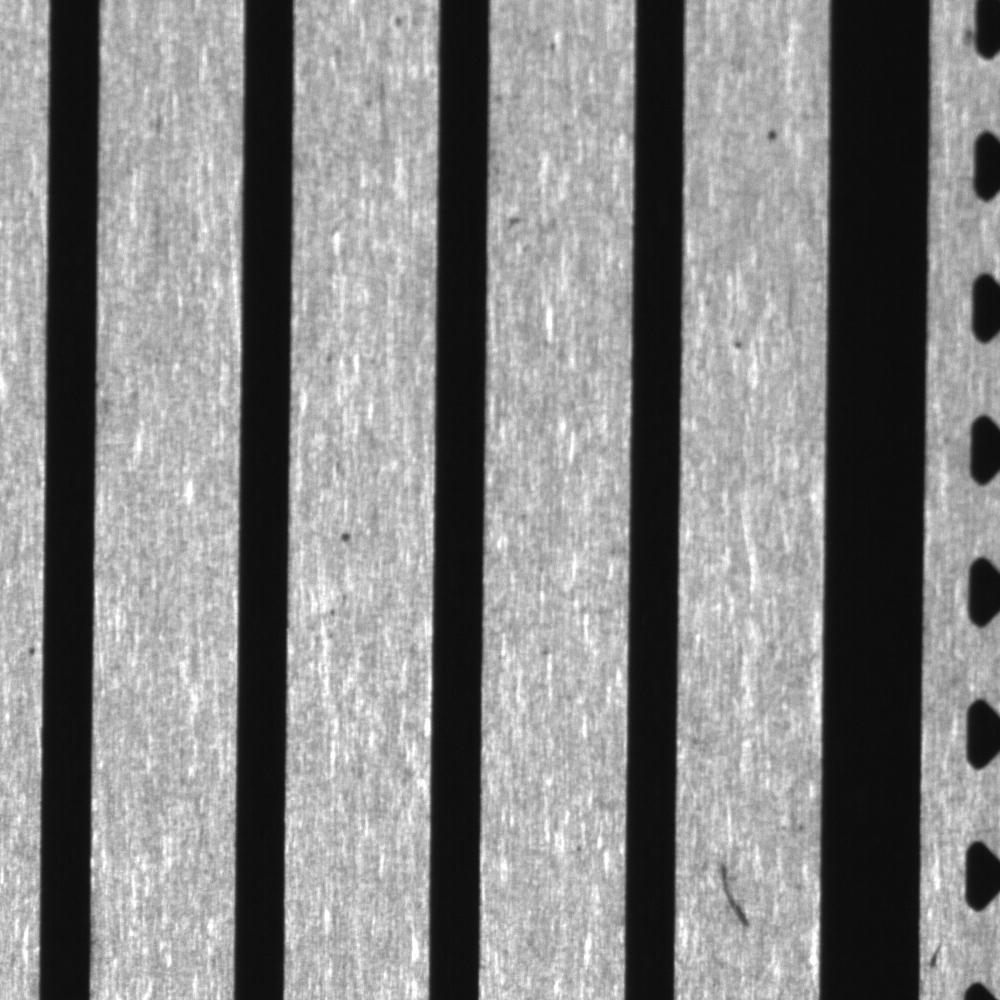Etching: (321, 584, 356, 648), (500, 203, 528, 238)
Pinhole: (753, 112, 793, 159), (326, 519, 368, 554), (720, 321, 752, 364), (14, 625, 43, 670), (540, 31, 567, 60)
Scar: (714, 855, 754, 934), (924, 917, 955, 981)
